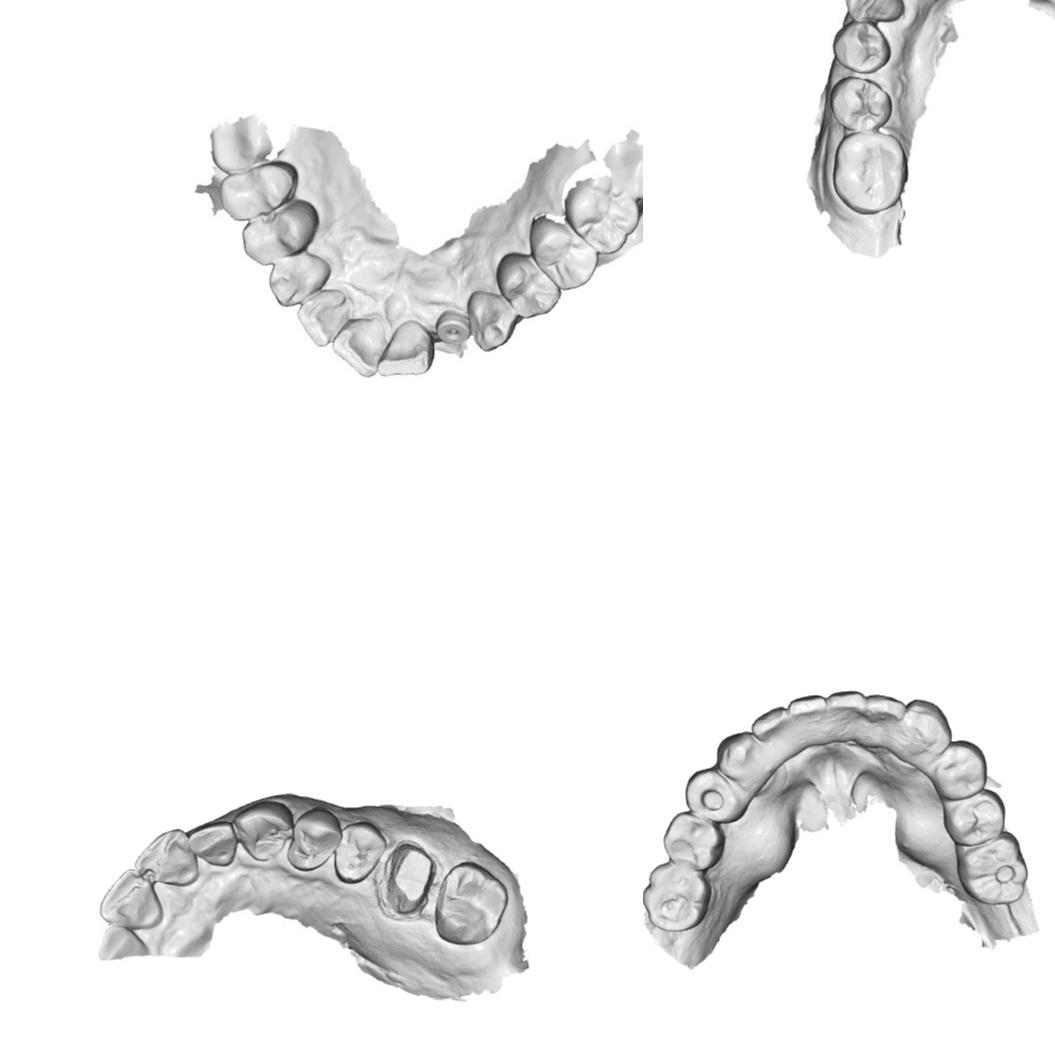canine: (267, 249, 334, 308), (234, 798, 292, 863), (904, 698, 952, 756), (474, 292, 520, 350), (714, 730, 760, 779), (842, 0, 906, 25)
crown: (378, 836, 440, 920)
implant: (435, 310, 472, 350)
incisor: (95, 868, 164, 932), (131, 828, 201, 886), (377, 322, 432, 372), (303, 292, 352, 345), (186, 821, 242, 867), (339, 320, 388, 372), (788, 692, 827, 742), (827, 689, 866, 737), (866, 694, 905, 740), (750, 704, 790, 746)
molar: (432, 859, 512, 947), (832, 130, 904, 214), (956, 830, 1028, 905), (643, 863, 712, 932), (573, 177, 633, 250)
premolar: (240, 200, 327, 265), (218, 159, 302, 224), (531, 219, 594, 287), (286, 804, 344, 874), (661, 810, 725, 870), (829, 75, 893, 134), (942, 788, 1006, 847), (502, 255, 561, 314), (832, 18, 892, 76), (334, 817, 385, 884), (685, 766, 742, 824), (934, 740, 988, 800)
